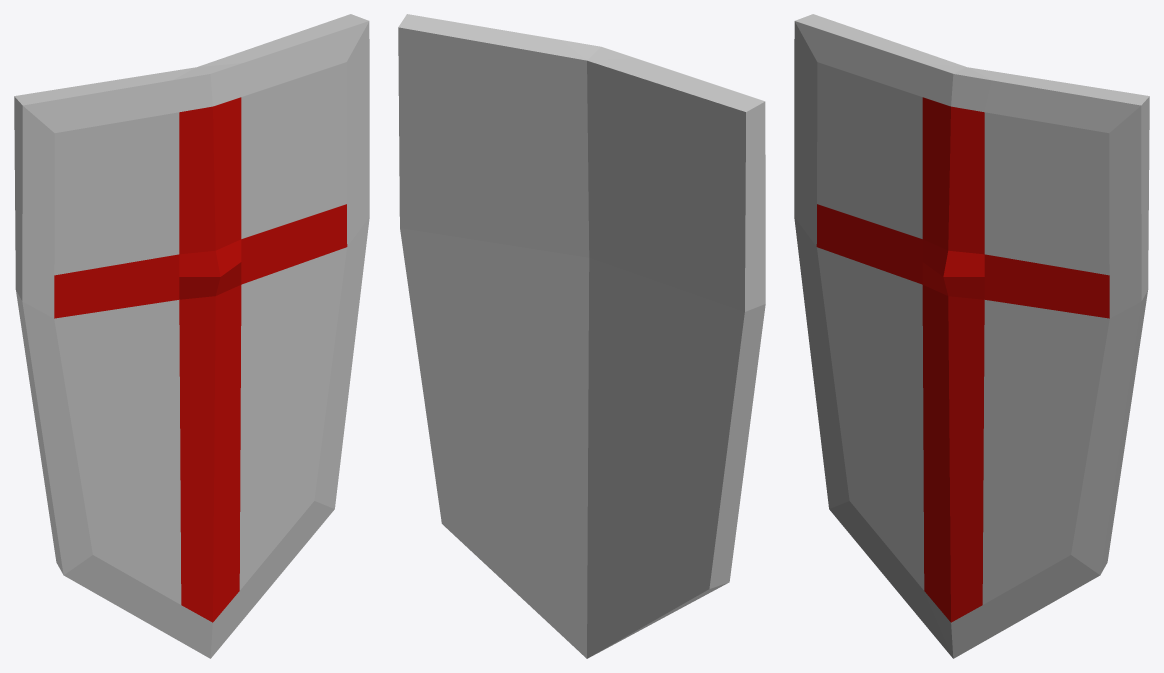
File: shield.fbx
3 renders of one model, left to right at view 1: azimuth 30°, elevation 25°; view 2: azimuth 150°, elevation 25°; view 3: azimuth 330°, elevation 25°, orthographic. The views are drawn at different scales.
Parts seen in each view (by area): view 1: shield; view 2: shield; view 3: shield.
Part boxes in pixels (x1,y1,x2,y2): shield: [14, 14, 369, 658]; shield: [398, 14, 765, 658]; shield: [794, 14, 1149, 658].
Size of the model in its own units: 0.4326 by 0.6961 by 0.0821.
